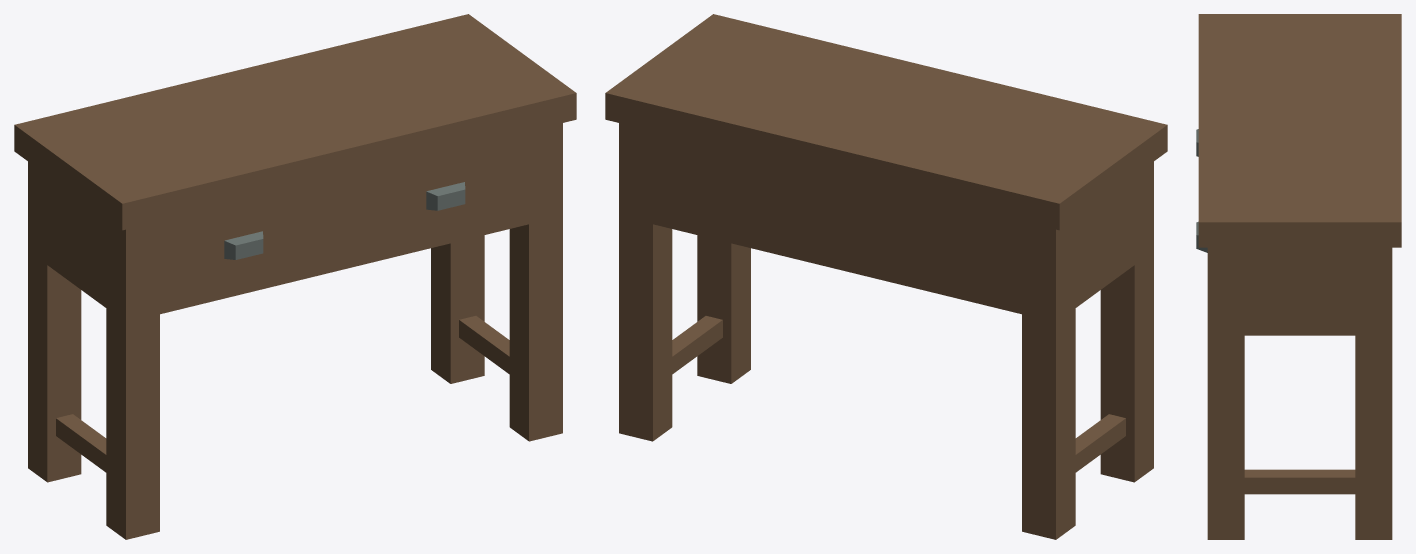
The model's file is sideTableDrawers.glb.
3 renders of one model, left to right at view 1: azimuth 30°, elevation 25°; view 2: azimuth 150°, elevation 25°; view 3: azimuth 270°, elevation 25°, orthographic. The views are drawn at different scales.
Parts seen in each view (by area): view 1: sideTableDrawers(Clone), drawerLeft, drawerRight; view 2: sideTableDrawers(Clone); view 3: sideTableDrawers(Clone).
Part boxes in pixels (x1=…): sideTableDrawers(Clone): x1=14, y1=14, x2=576, y2=539; drawerLeft: x1=160, y1=202, x2=327, y2=287; drawerRight: x1=362, y1=153, x2=528, y2=238; sideTableDrawers(Clone): x1=605, y1=14, x2=1167, y2=539; sideTableDrawers(Clone): x1=1198, y1=14, x2=1401, y2=539.
Size of the model in its own units: 0.5345 by 0.3844 by 0.2223.
